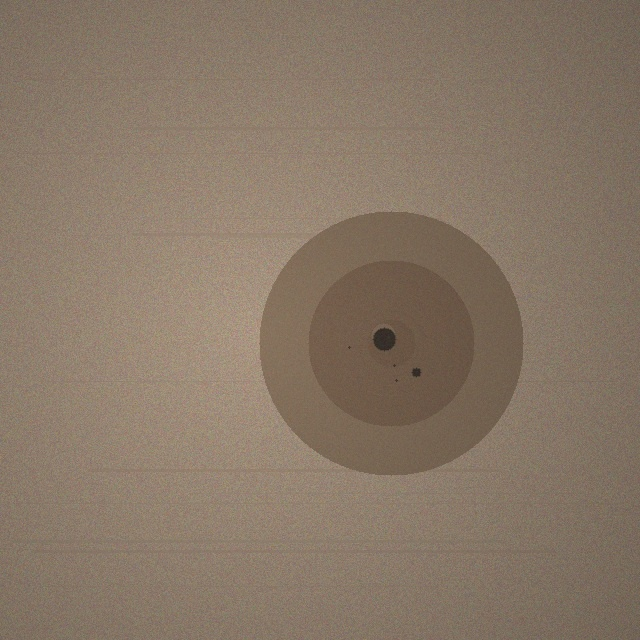shrinkage: (259, 211, 523, 475)
